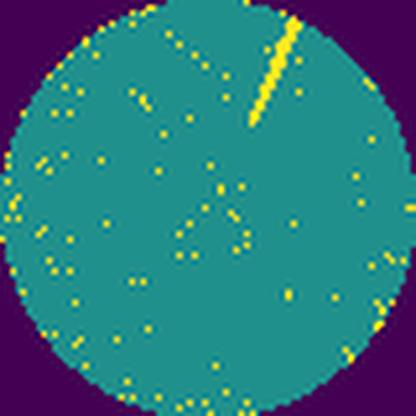Scratch: (242, 15, 308, 133)
